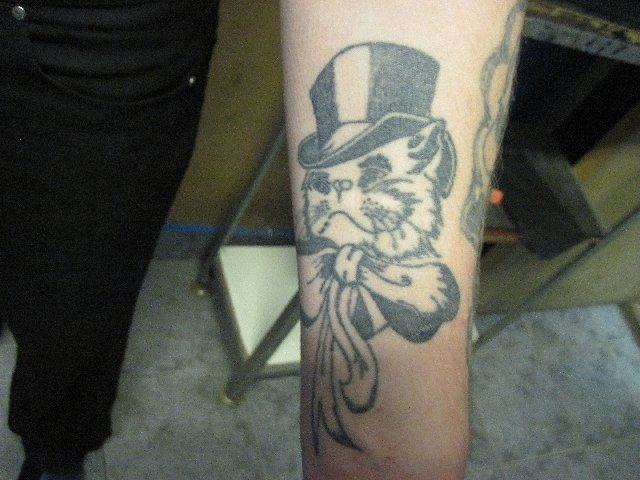tatu8_kot: (284, 30, 464, 456)
